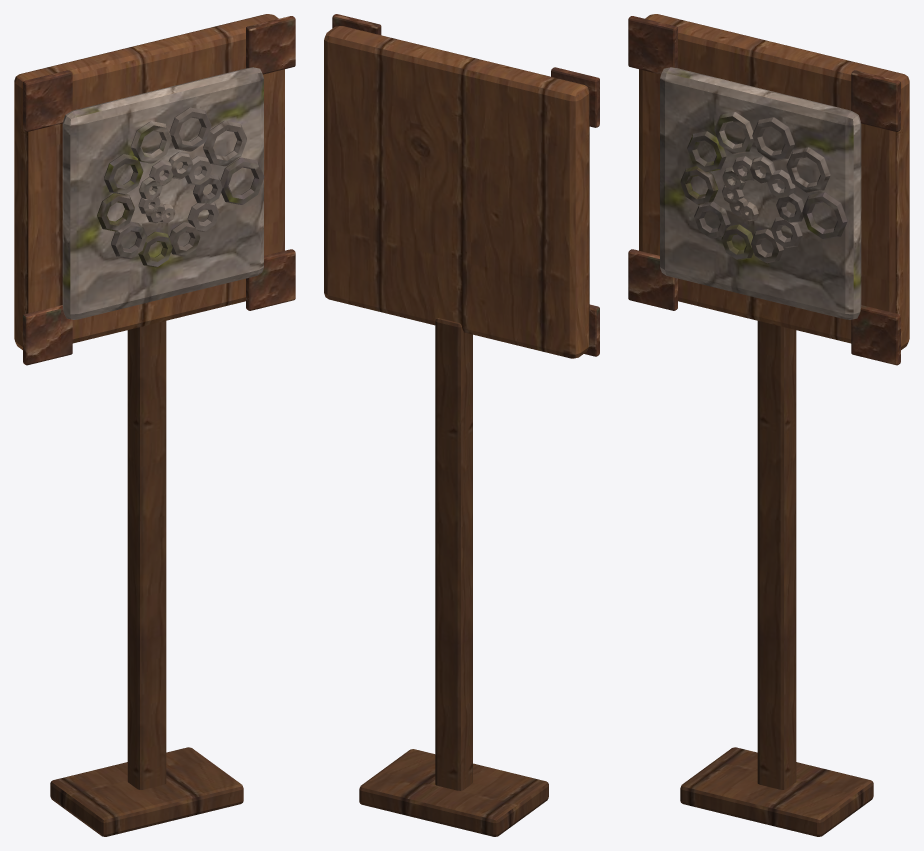
The model's file is fossil_plaque.glb.
The picture shows the model from 3 angles, left to right: view 1: azimuth 30°, elevation 25°; view 2: azimuth 150°, elevation 25°; view 3: azimuth 330°, elevation 25°; orthographic projection.
Visible parts, largest first — view 1: model; view 2: model; view 3: model.
Part boxes in pixels (x1,y1,x2,y2): model: (14,14,295,836); model: (324,14,599,836); model: (628,14,909,836).
Size of the model in its own units: 0.57 by 1.53 by 0.2.
Materials: 5 (5 with a texture image).
